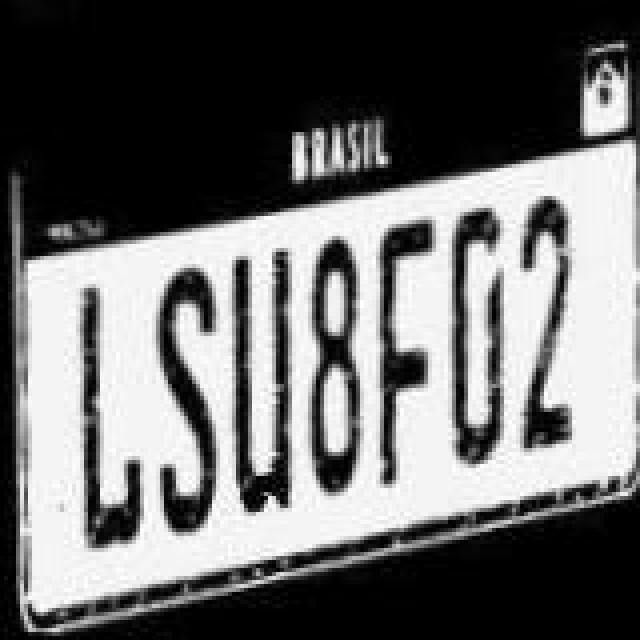2: (514, 192, 578, 452)
8: (294, 222, 362, 514)
D: (450, 204, 514, 468)
F: (366, 210, 434, 506)
L: (62, 266, 142, 554)
S: (148, 236, 220, 536)
U: (220, 222, 300, 534)
